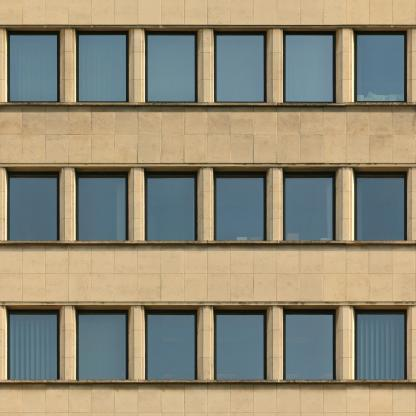Building Outline: (0, 0, 415, 416)
Facade: (0, 0, 415, 416)
Floor: (0, 0, 415, 134), (0, 142, 415, 274), (0, 282, 415, 407)
Floor Slab: (0, 407, 416, 416), (0, 133, 416, 142), (0, 274, 416, 282)
Window: (5, 27, 62, 102), (282, 27, 339, 102), (5, 306, 62, 380), (282, 306, 339, 380), (5, 166, 62, 240), (282, 166, 339, 240), (352, 27, 408, 102), (75, 27, 131, 102), (144, 27, 200, 102), (213, 27, 269, 102), (352, 306, 408, 380), (75, 306, 131, 380), (144, 306, 200, 380), (213, 306, 269, 380), (352, 166, 408, 240), (75, 166, 131, 240), (144, 166, 200, 240), (213, 166, 269, 240)
